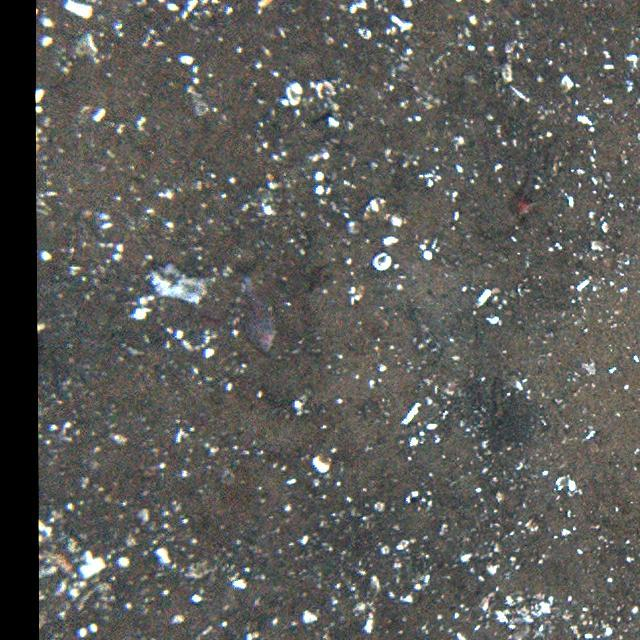flatfish: (233, 272, 283, 356)
